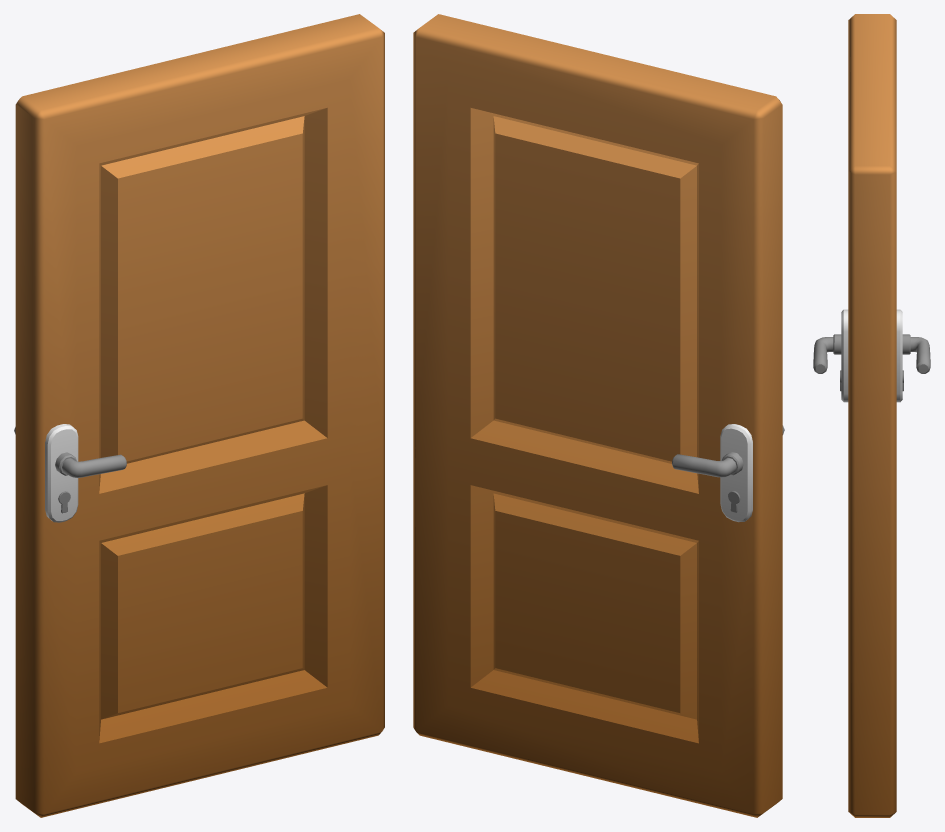
File: Door_18.fbx
The picture shows the model from 3 angles, left to right: view 1: azimuth 30°, elevation 25°; view 2: azimuth 150°, elevation 25°; view 3: azimuth 270°, elevation 25°; orthographic projection. The views are drawn at different scales.
Visible parts, largest first — view 1: Door_18, Door_18 Attach; view 2: Door_18, Door_18 Attach; view 3: Door_18, Door_18 Attach.
Boxes of the visible parts, x1,y1,x2,y2 form: Door_18: (15,14,384,817); Door_18 Attach: (14,427,126,477); Door_18: (413,14,782,817); Door_18 Attach: (672,425,784,477); Door_18: (840,14,903,817); Door_18 Attach: (813,334,930,373).
Size of the model in its own units: 0.8486 by 1.64 by 0.2669.
